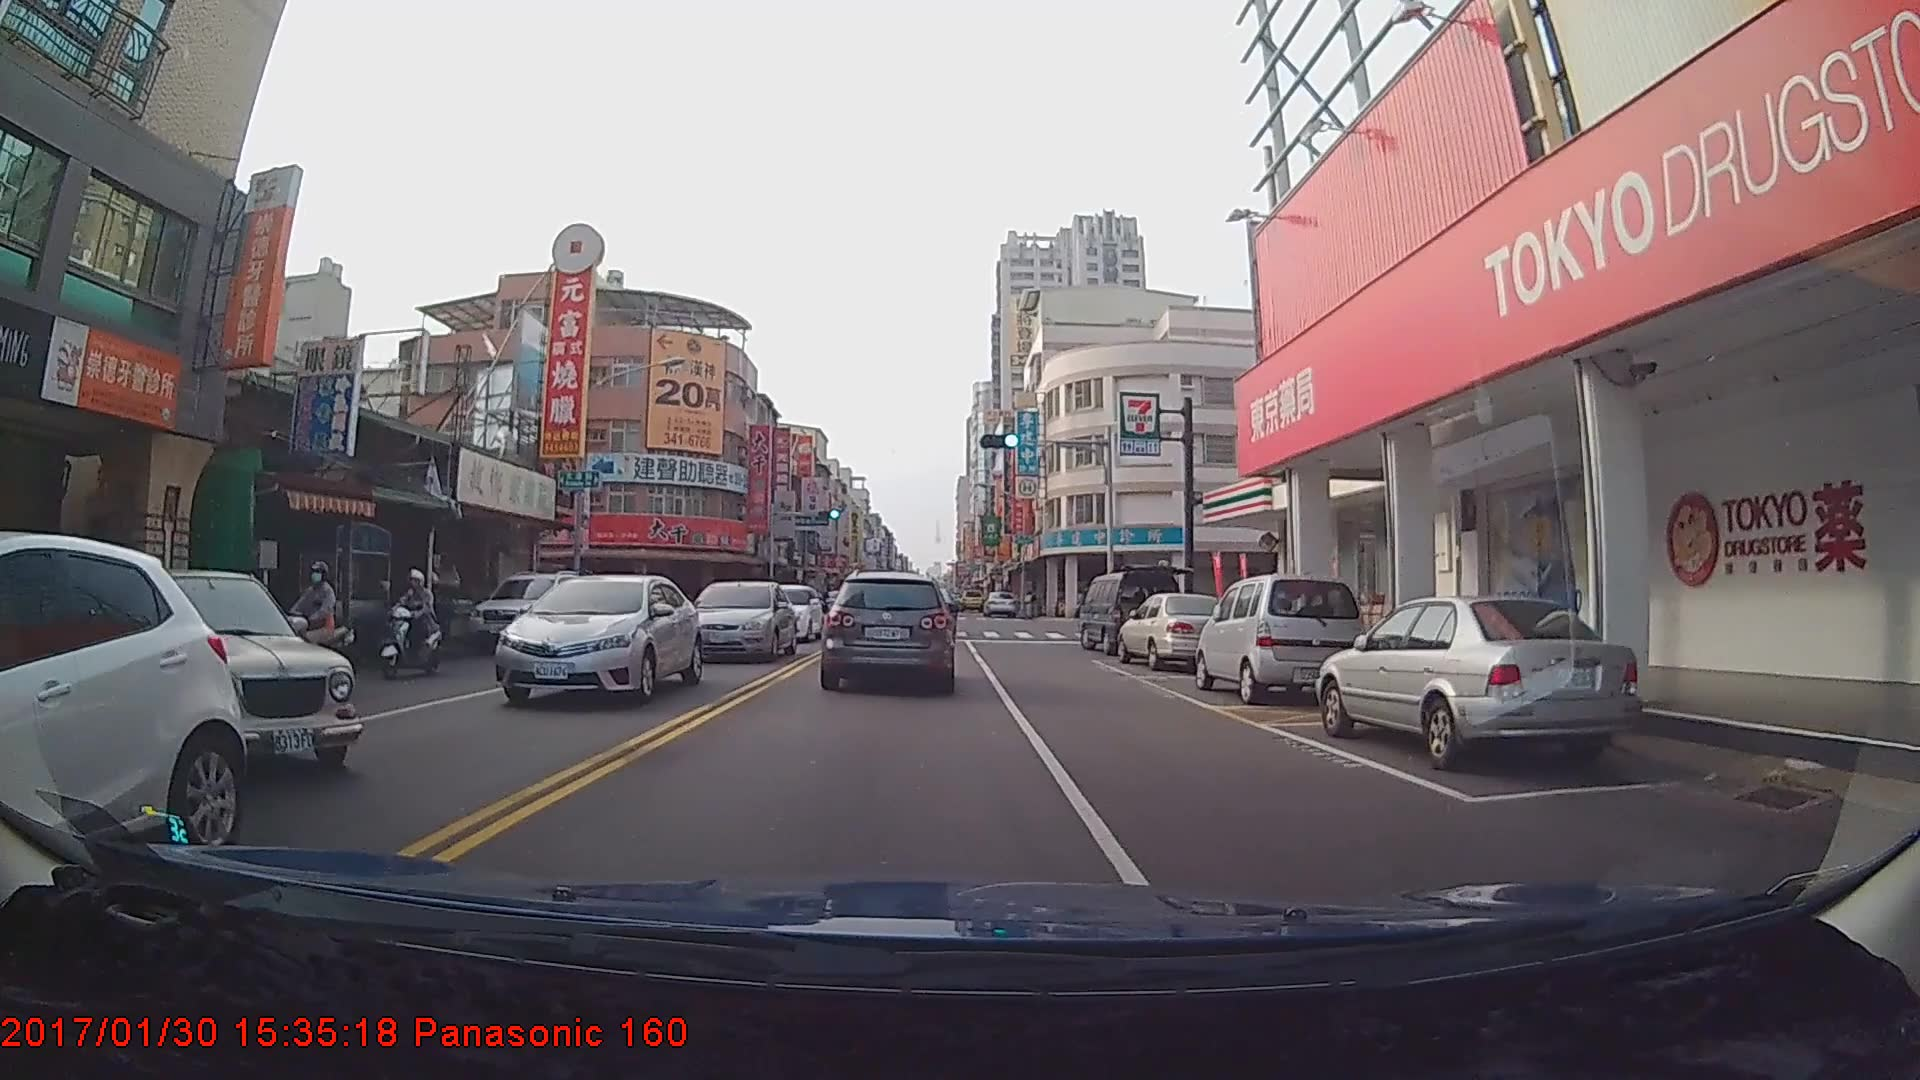rider: (270, 559, 363, 695), (375, 571, 451, 677)
vehicle: (0, 531, 243, 885), (27, 566, 357, 772), (1314, 593, 1637, 770), (485, 575, 691, 714), (1194, 575, 1369, 710), (826, 570, 952, 689), (464, 570, 586, 656), (684, 578, 794, 664), (1120, 592, 1234, 669), (1078, 575, 1182, 656), (750, 583, 821, 643), (979, 590, 1017, 616)
